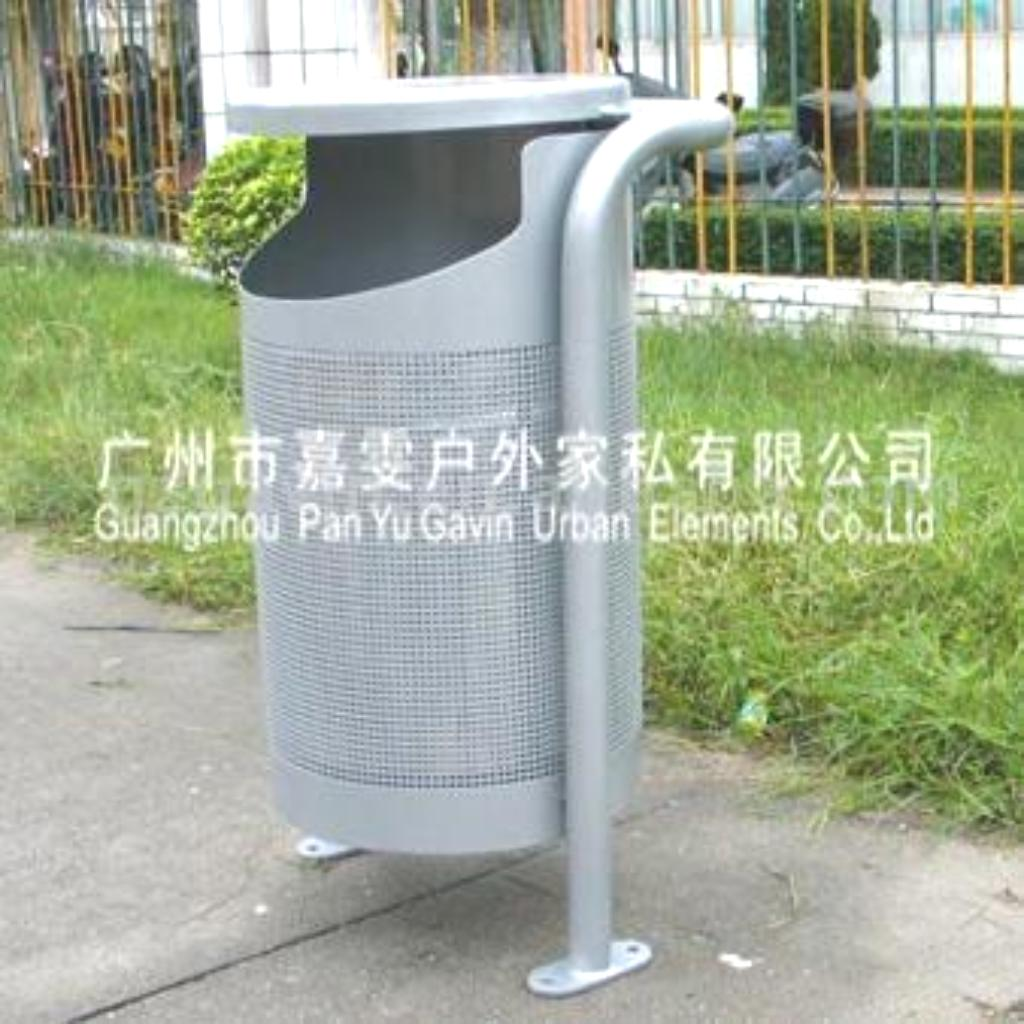dustbin: (211, 69, 742, 933)
